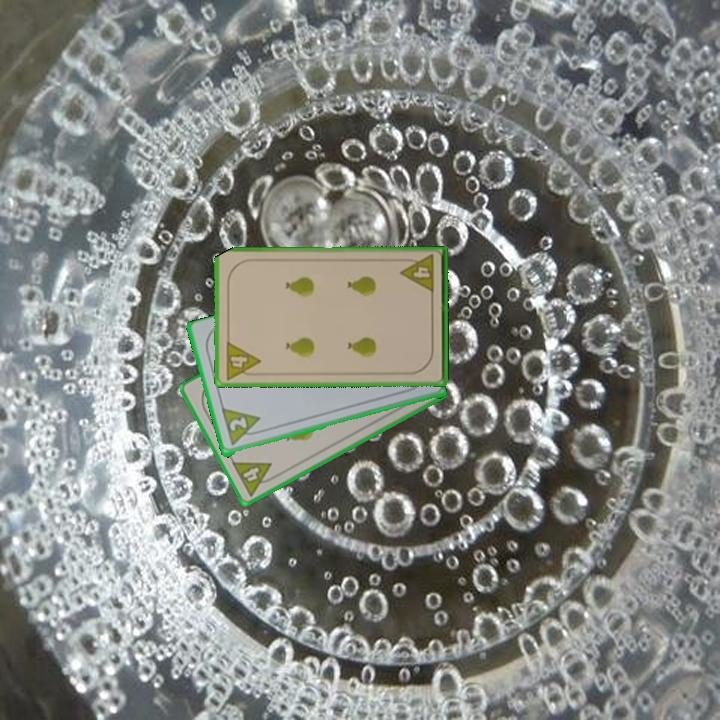2p: (225, 414, 250, 435)
4p: (228, 458, 281, 499), (222, 338, 263, 382), (398, 251, 437, 296)
